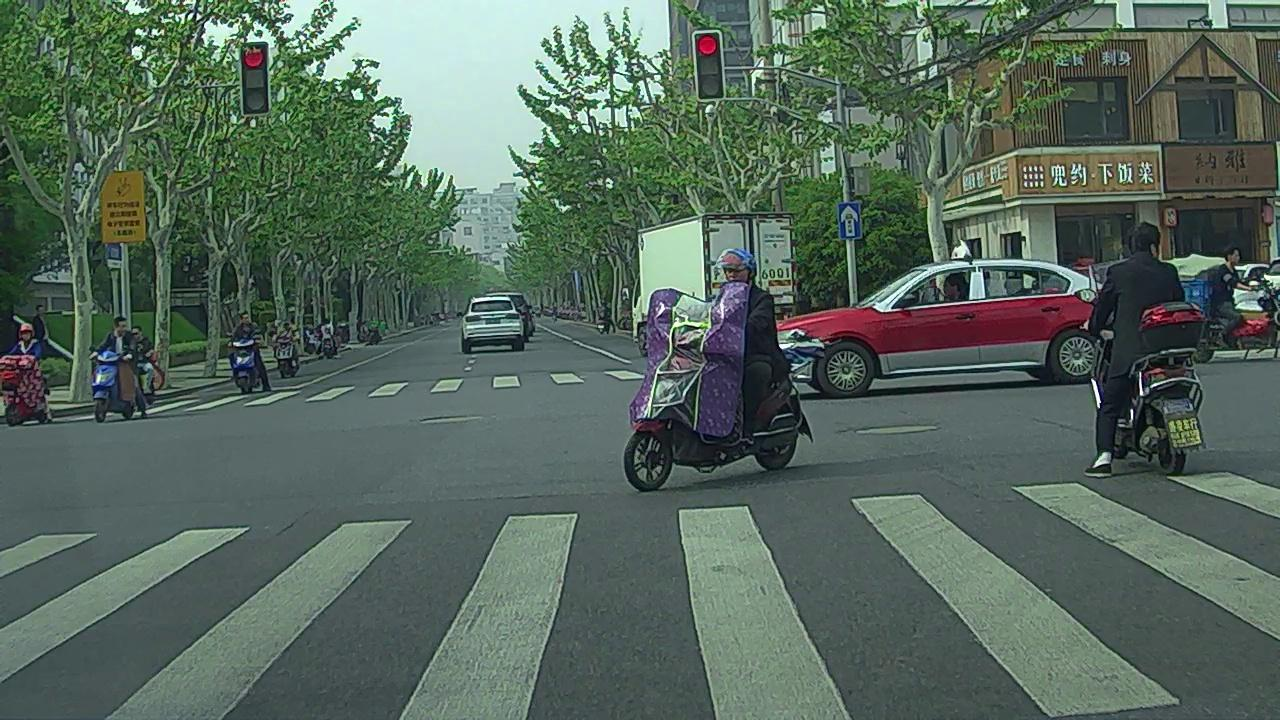traffic_light: (696, 31, 723, 100), (241, 42, 267, 113)
